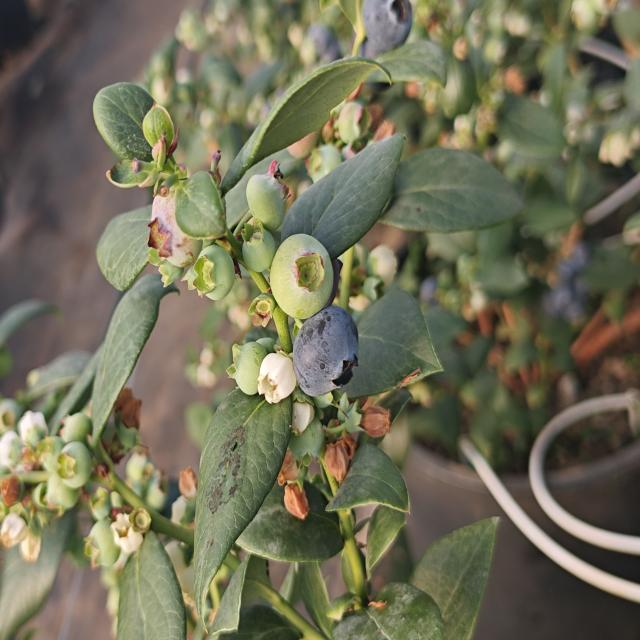ripe: (291, 305, 369, 399), (360, 0, 419, 58), (303, 13, 350, 65)
